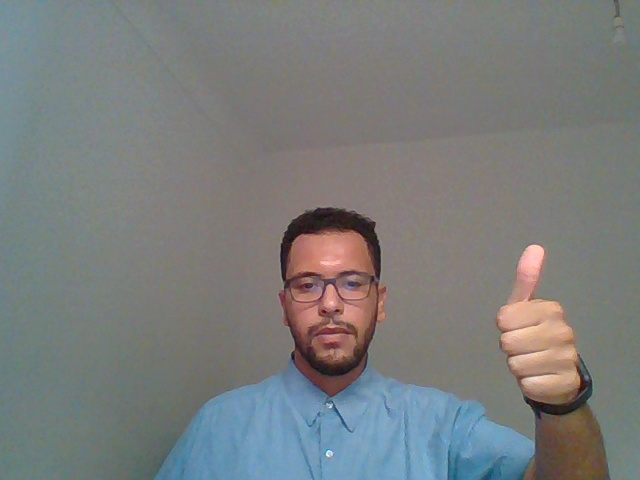ok: (470, 207, 614, 460)
